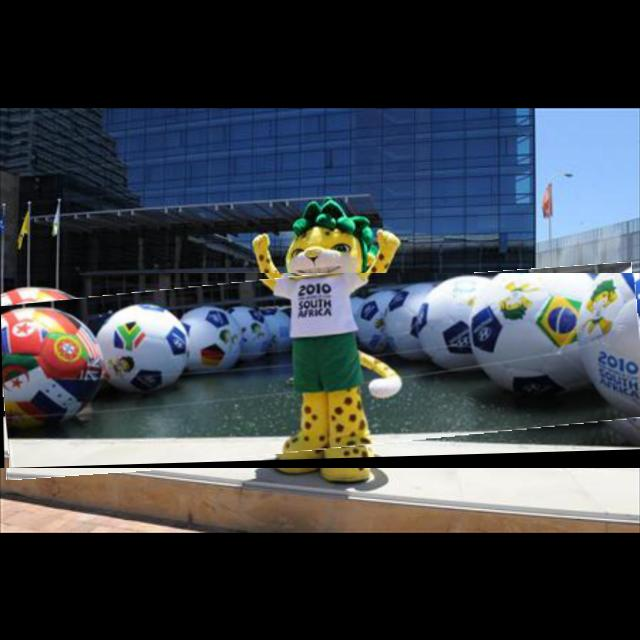Football: (0, 273, 640, 468)
